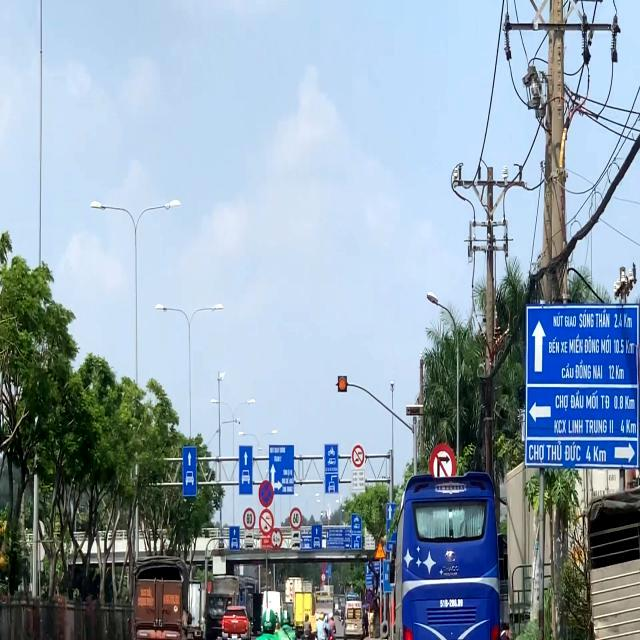Cam dung xe va do xe: (258, 480, 274, 508)
Cam re phai: (428, 441, 454, 481)
Han che chieu cao: (270, 528, 282, 550)
Toc do toi da cho phep: (288, 505, 303, 531), (243, 504, 257, 530)
